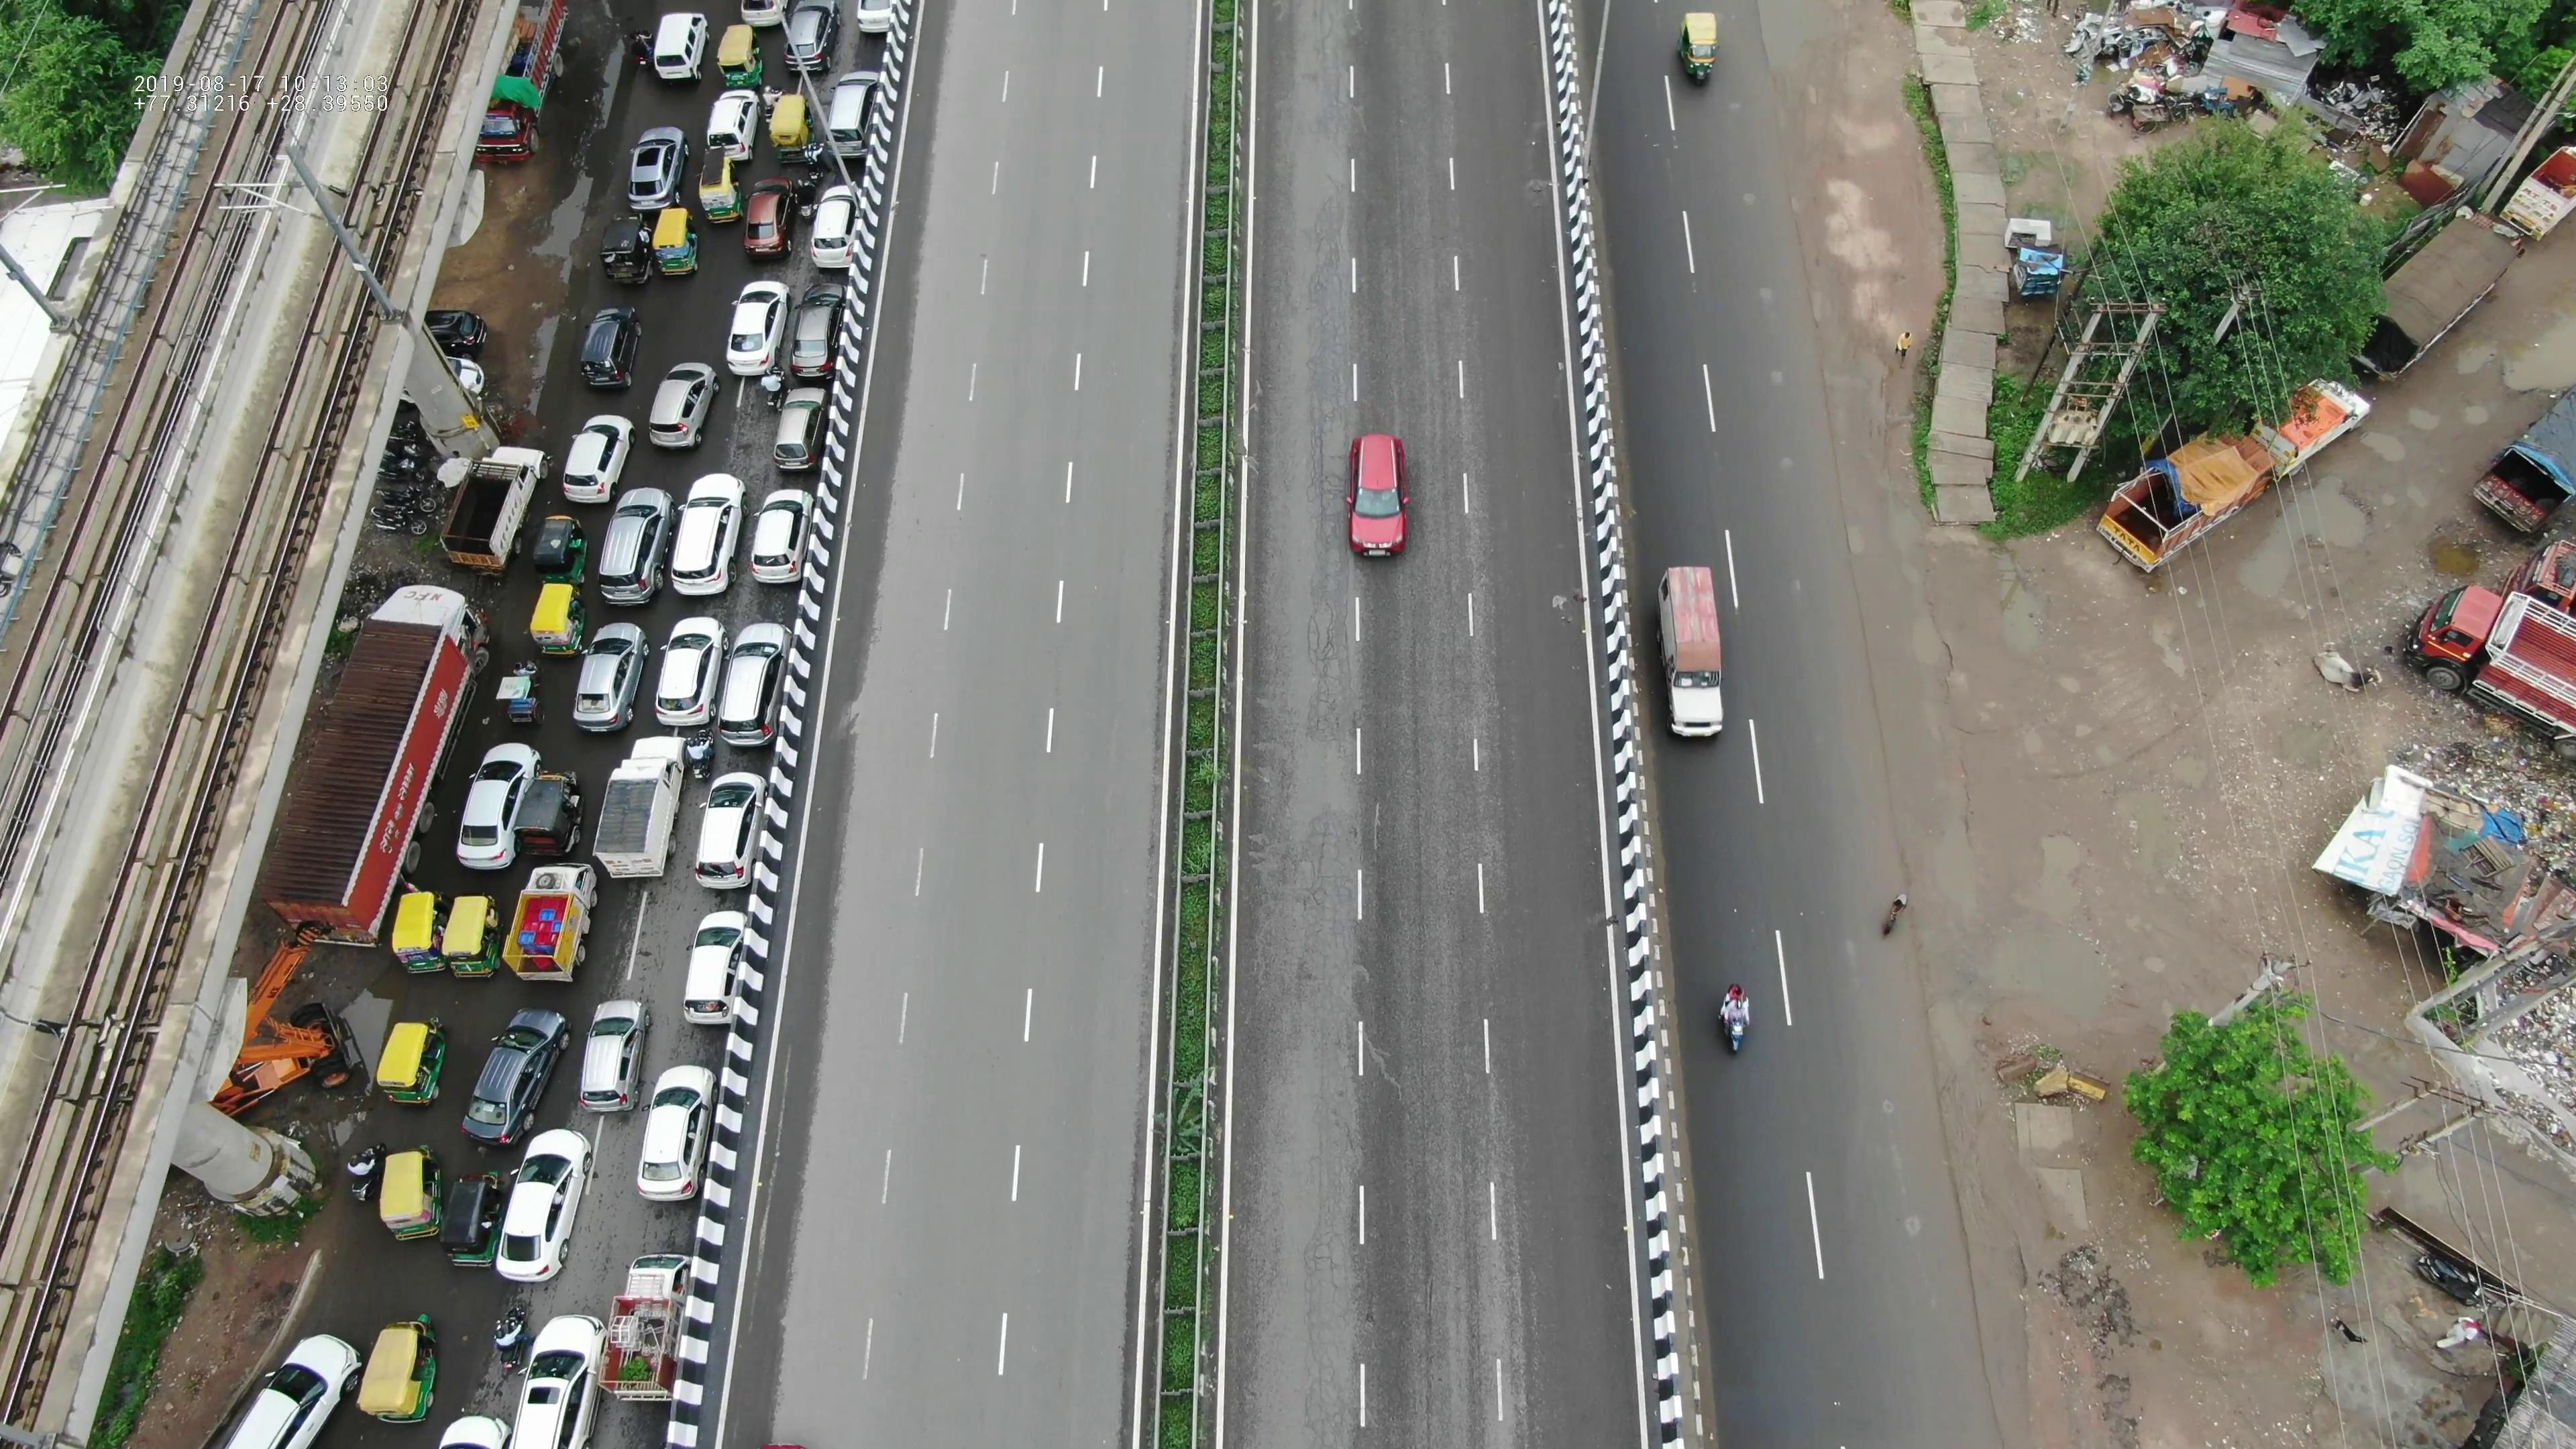Alligator_cracks: (1254, 837, 1392, 1159), (1263, 596, 1394, 796), (1283, 1201, 1380, 1444), (1269, 173, 1385, 364), (1292, 5, 1399, 159), (1279, 380, 1357, 554)
